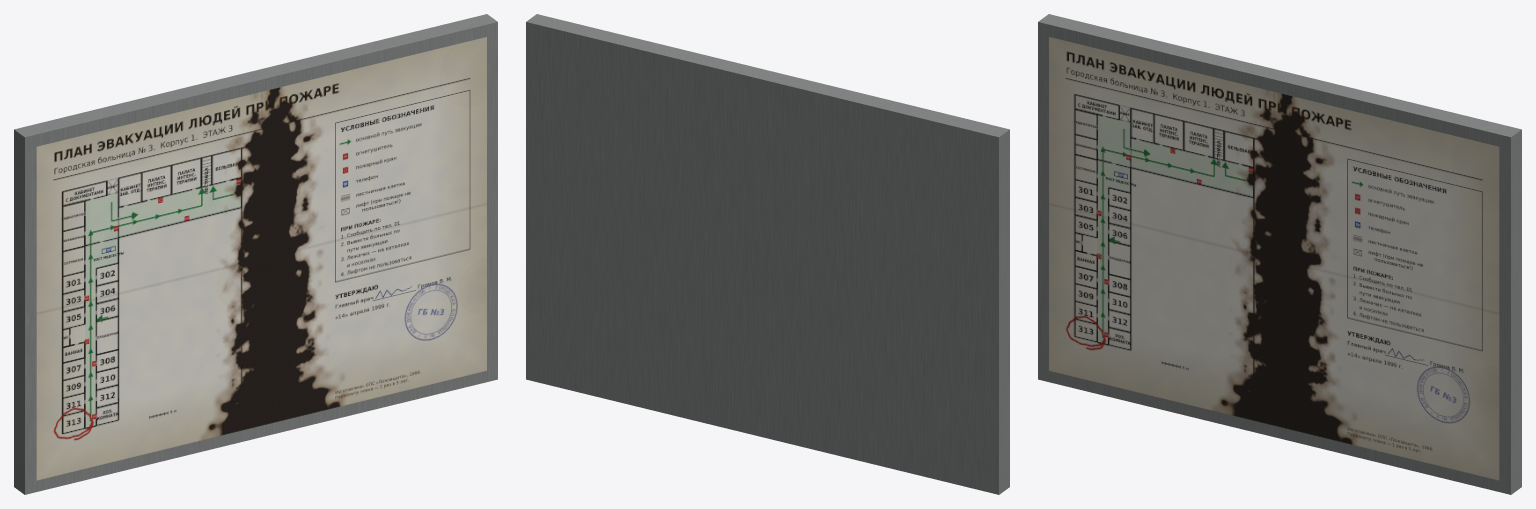
The model's file is Evac_Plan_F3.fbx.
The picture shows the model from 3 angles, left to right: view 1: azimuth 30°, elevation 25°; view 2: azimuth 150°, elevation 25°; view 3: azimuth 330°, elevation 25°; orthographic projection.
Parts seen in each view (by area): view 1: Evac_Plan_F3; view 2: Evac_Plan_F3; view 3: Evac_Plan_F3.
Boxes of the visible parts, x1,y1,x2,y2 form: Evac_Plan_F3: (14,14,497,494); Evac_Plan_F3: (526,14,1009,494); Evac_Plan_F3: (1038,14,1521,494).
Size of the model in its own units: 0.63 by 0.455 by 0.026.
1 material, 1 textured.
